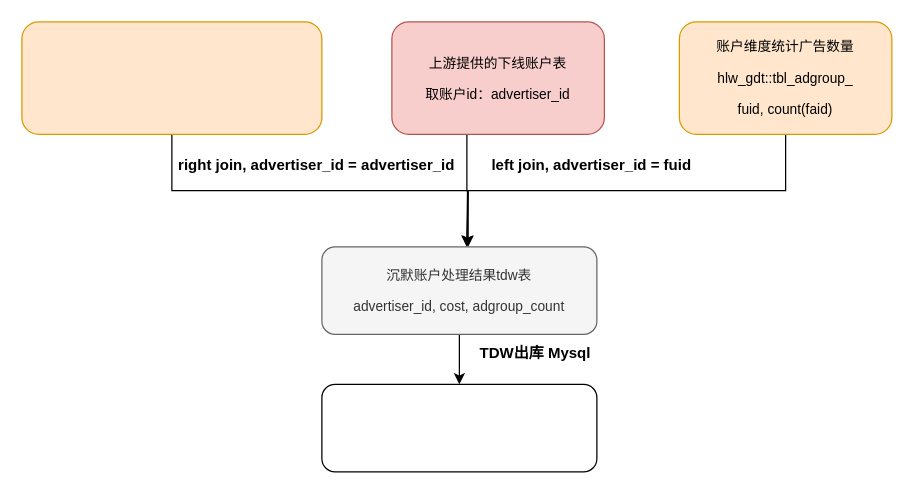
This 914x494 diagram has some shape labels left out. The centre of each missing label's shape, as x and y in pixels:
"沉默账户处理结果mysql表 advertiser_id, adgroup_count" belongs at pixel 459 427.
"账户维度聚合消耗 ams_biz_db::f_biz_manage_middle_d advertiser_id, sum(real_cost)" belongs at pixel 171 77.
